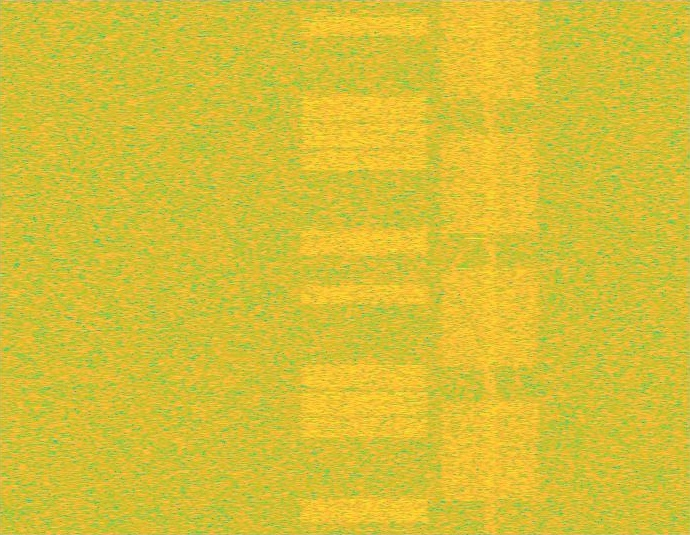5G: (439, 0, 542, 534)
DSSS: (484, 0, 498, 534)
LTE: (296, 0, 434, 534)
Radar: (469, 0, 483, 534)
